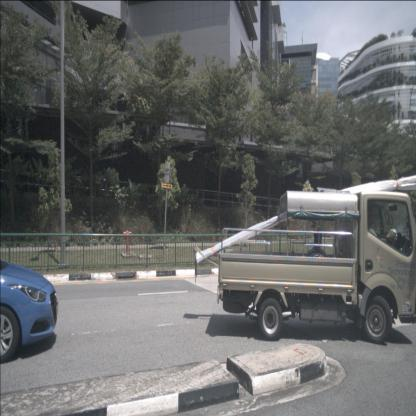vehicle-car: (0, 258, 59, 365)
vehicle-truck: (216, 190, 416, 346)
